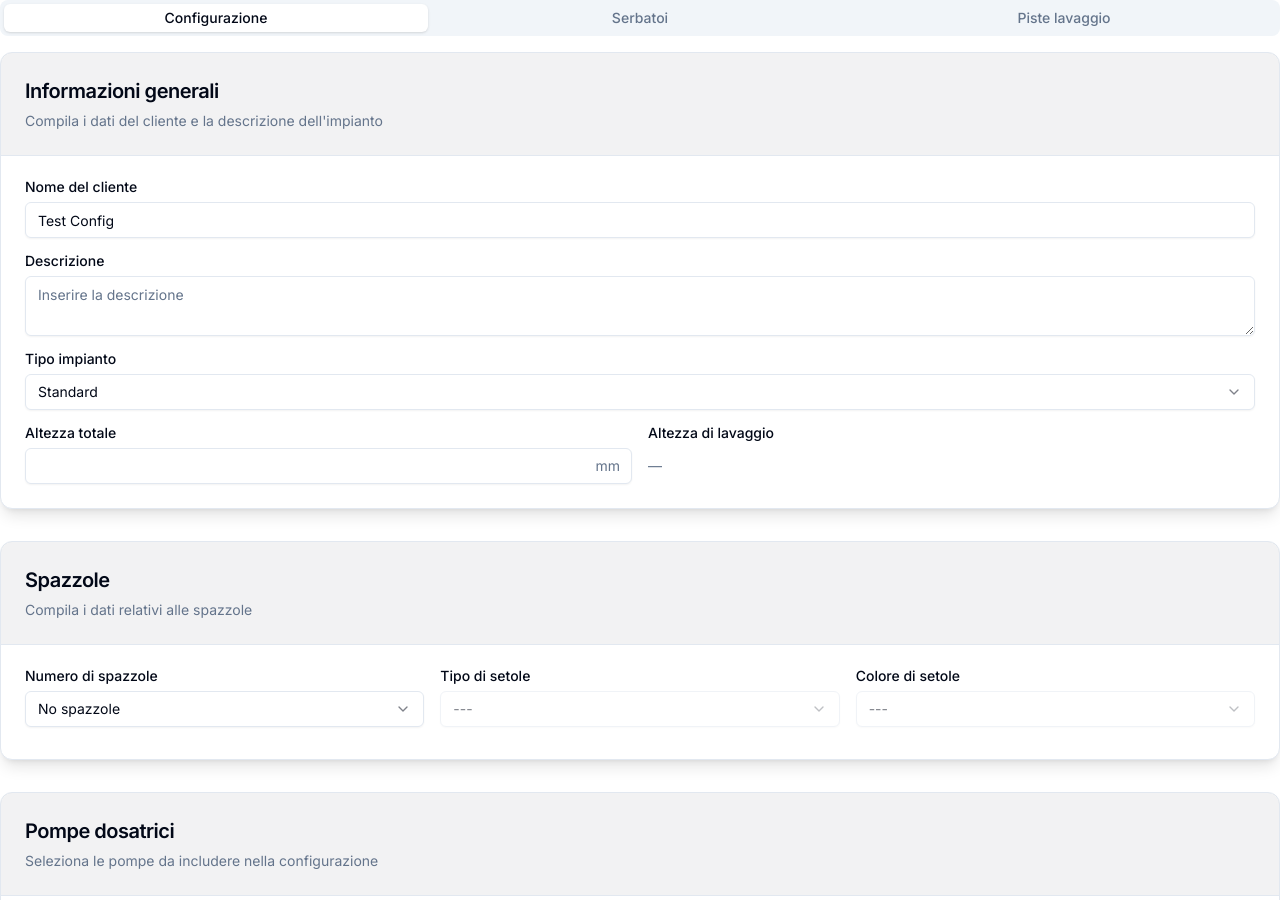
Test: FormContainer › Unsaved changes — save and switch › auto-switches to the pending tab after a successful save
Step 1. Click the tab "Serbatoi" → click(640, 18), box x1=428 y1=4 x2=852 y2=32
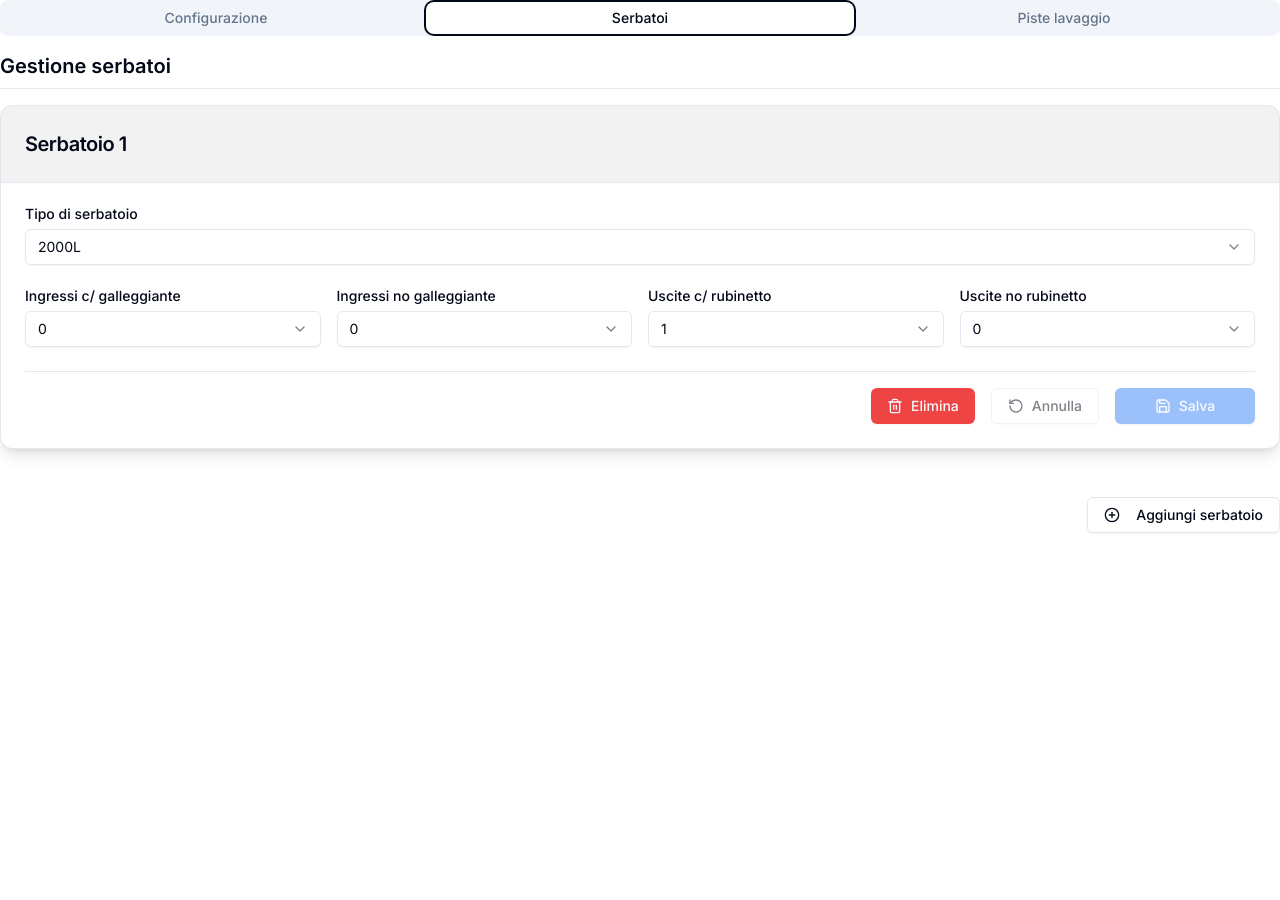
Step 2. Click the dropdown named "Ingressi c/ galleggiante" → click(42, 328), box x1=25 y1=311 x2=320 y2=347
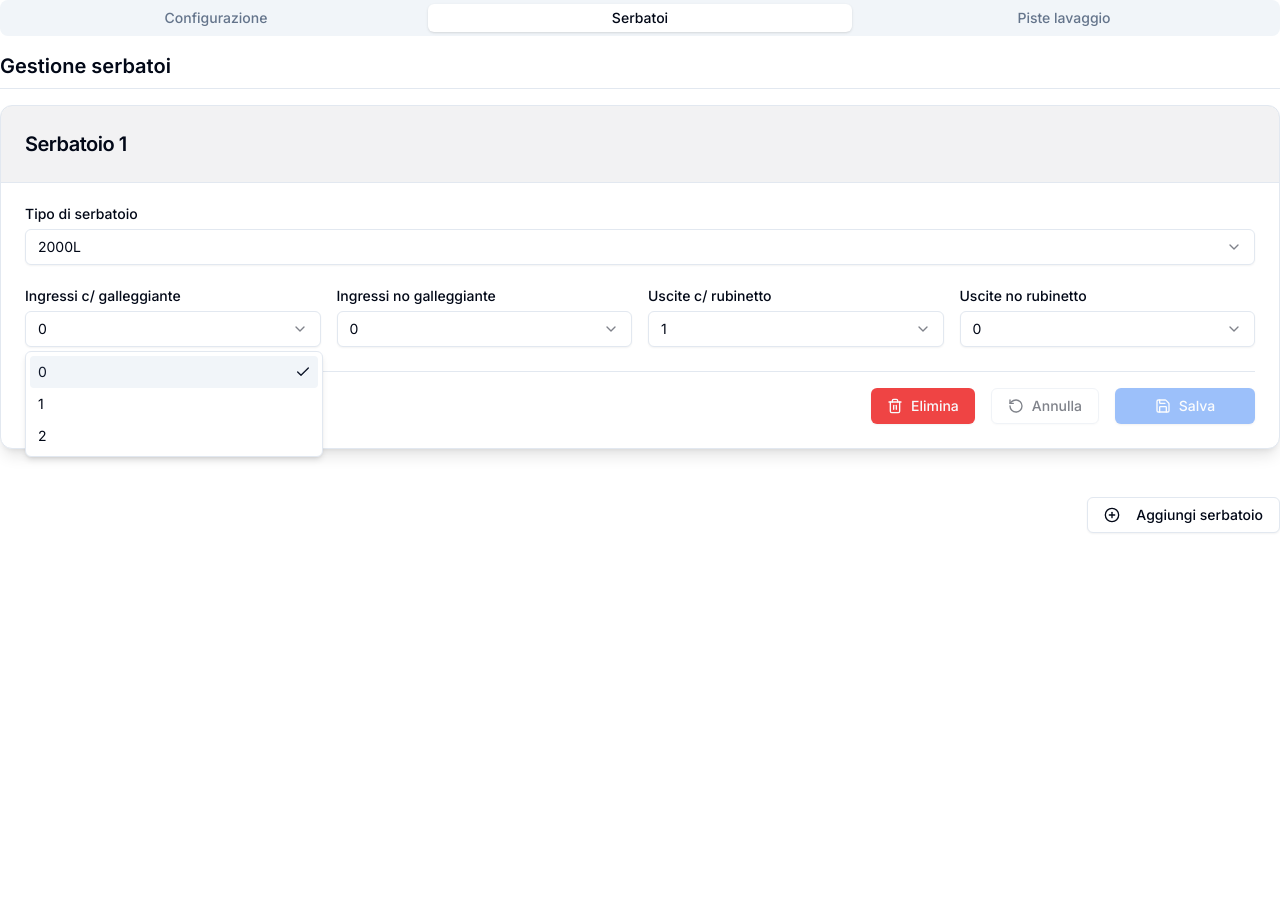
Step 3. Click the option "2" → click(42, 436), box x1=38 y1=427 x2=46 y2=444
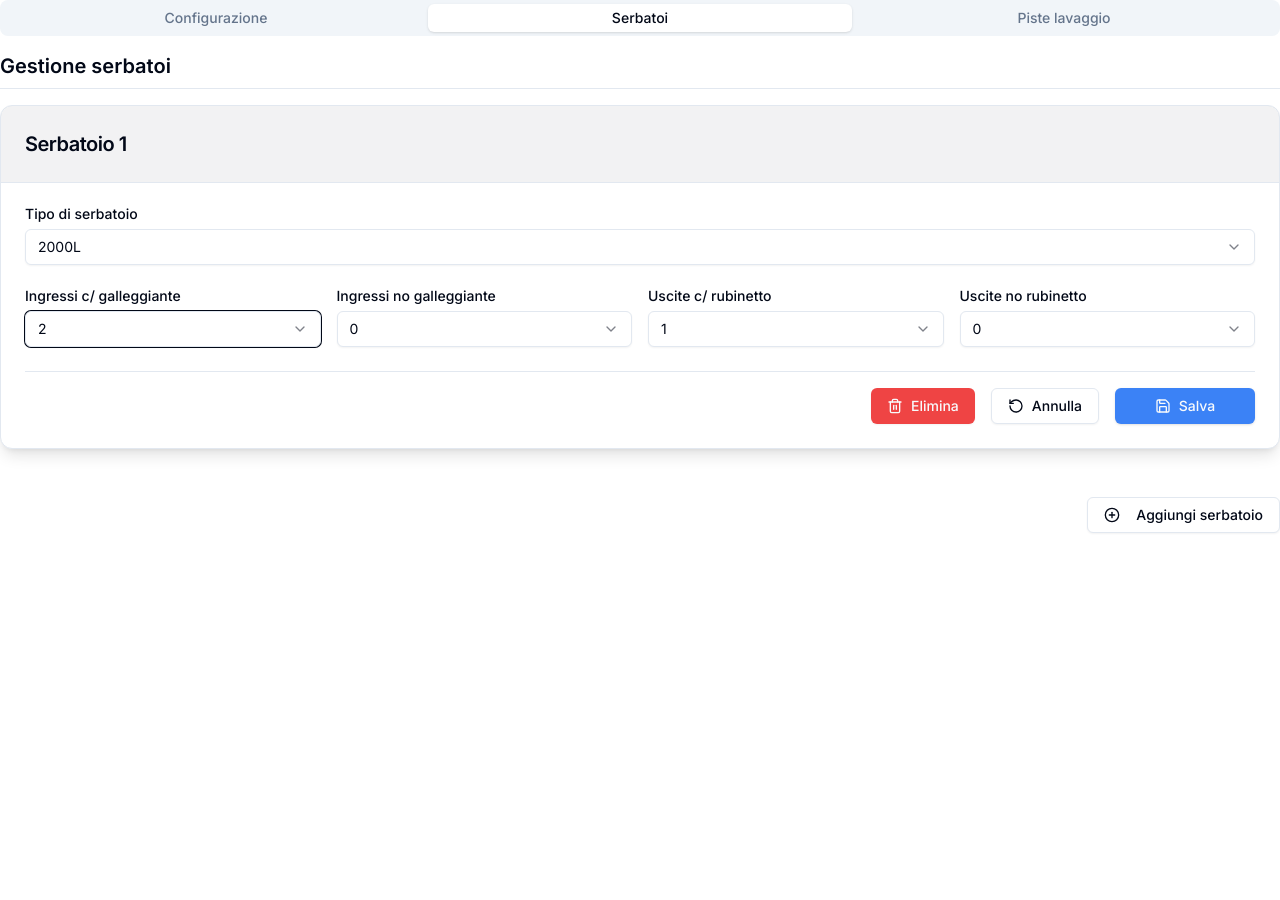
Step 4. Click the tab "Piste lavaggio" → click(1064, 18), box x1=852 y1=4 x2=1276 y2=32
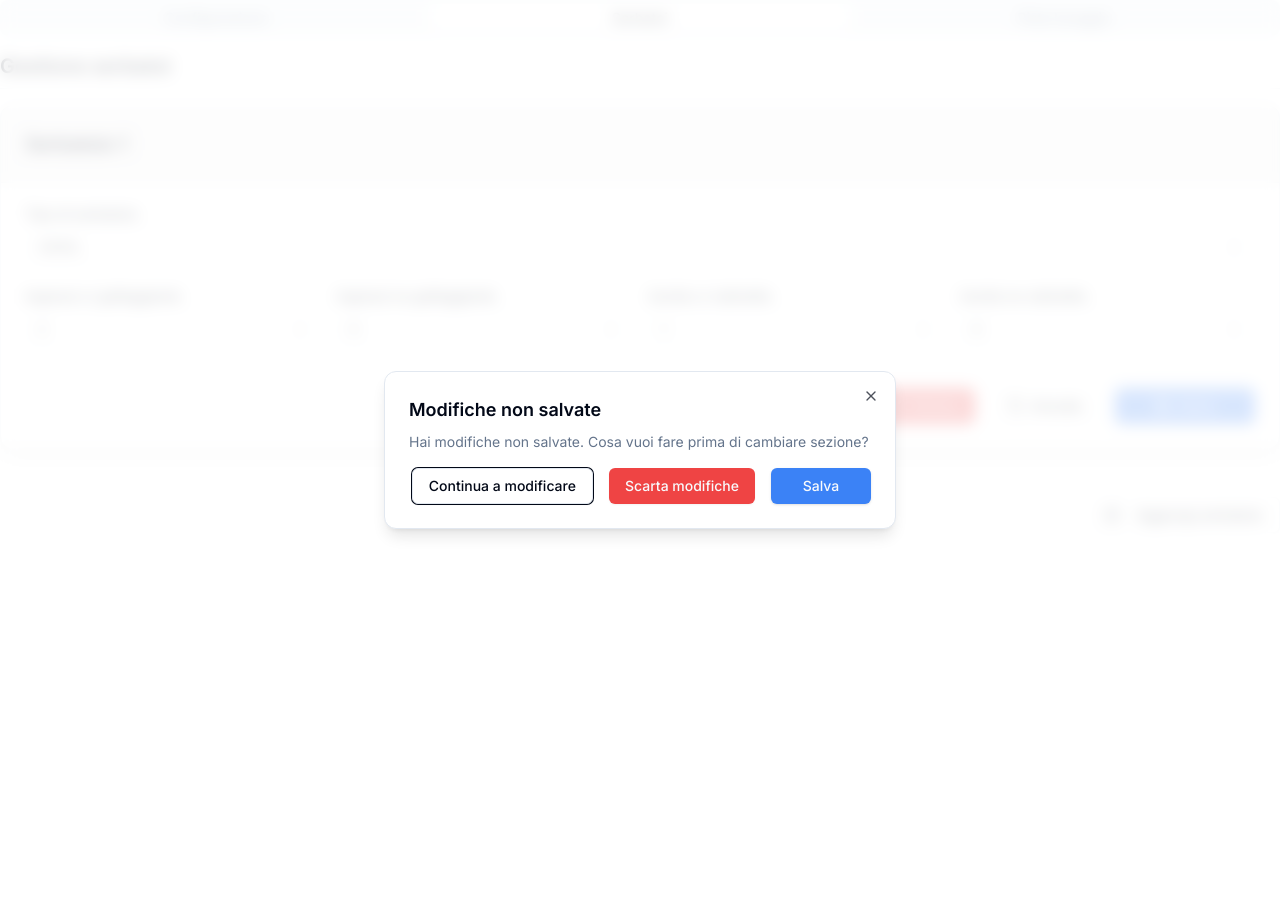
Result: the heading "Modifiche non salvate" is shown at x1=409 y1=399 x2=601 y2=420
Step 5. Click the button "Salva" → click(821, 486), box x1=771 y1=468 x2=871 y2=504
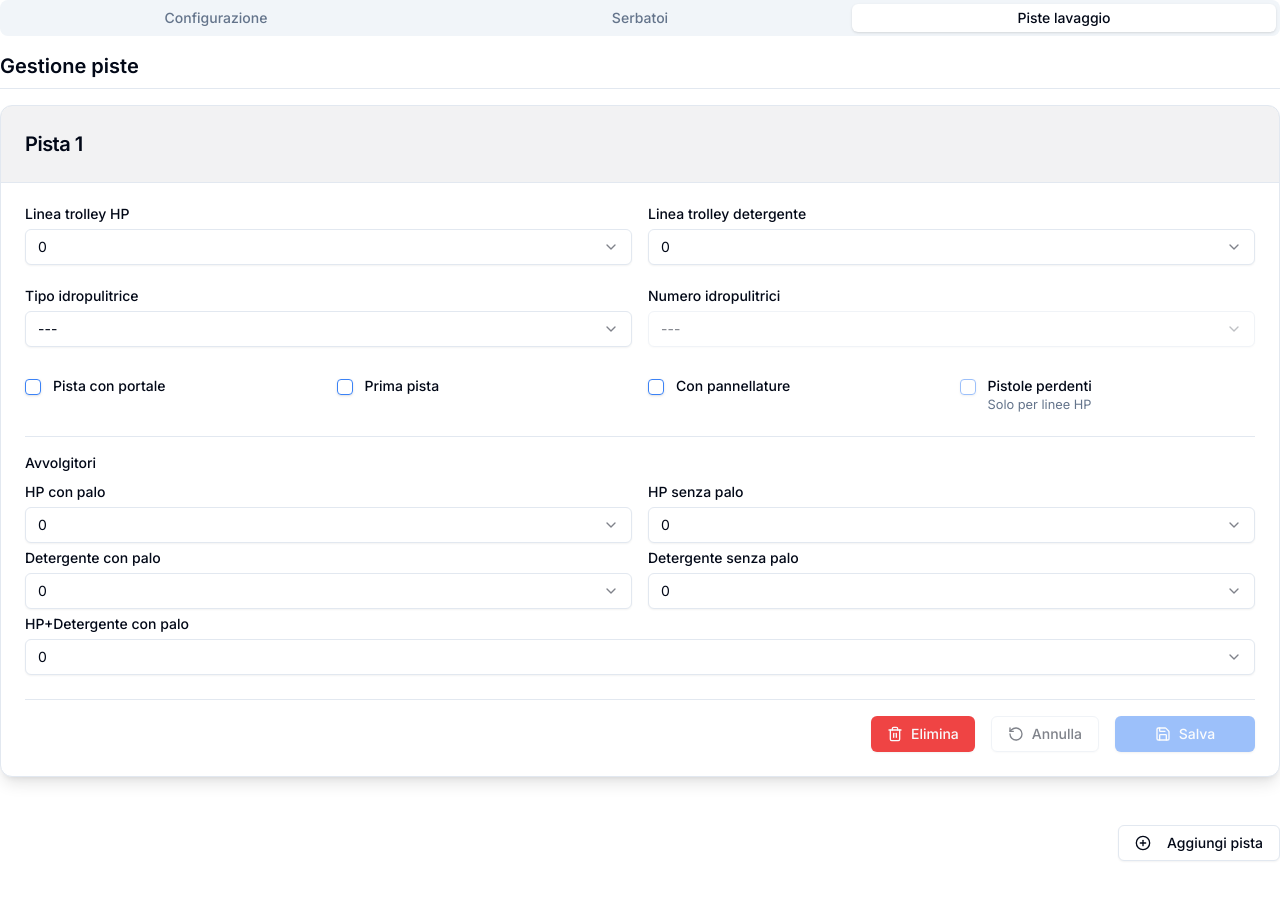
Result: the heading "Gestione piste" is shown at x1=0 y1=52 x2=1279 y2=89
